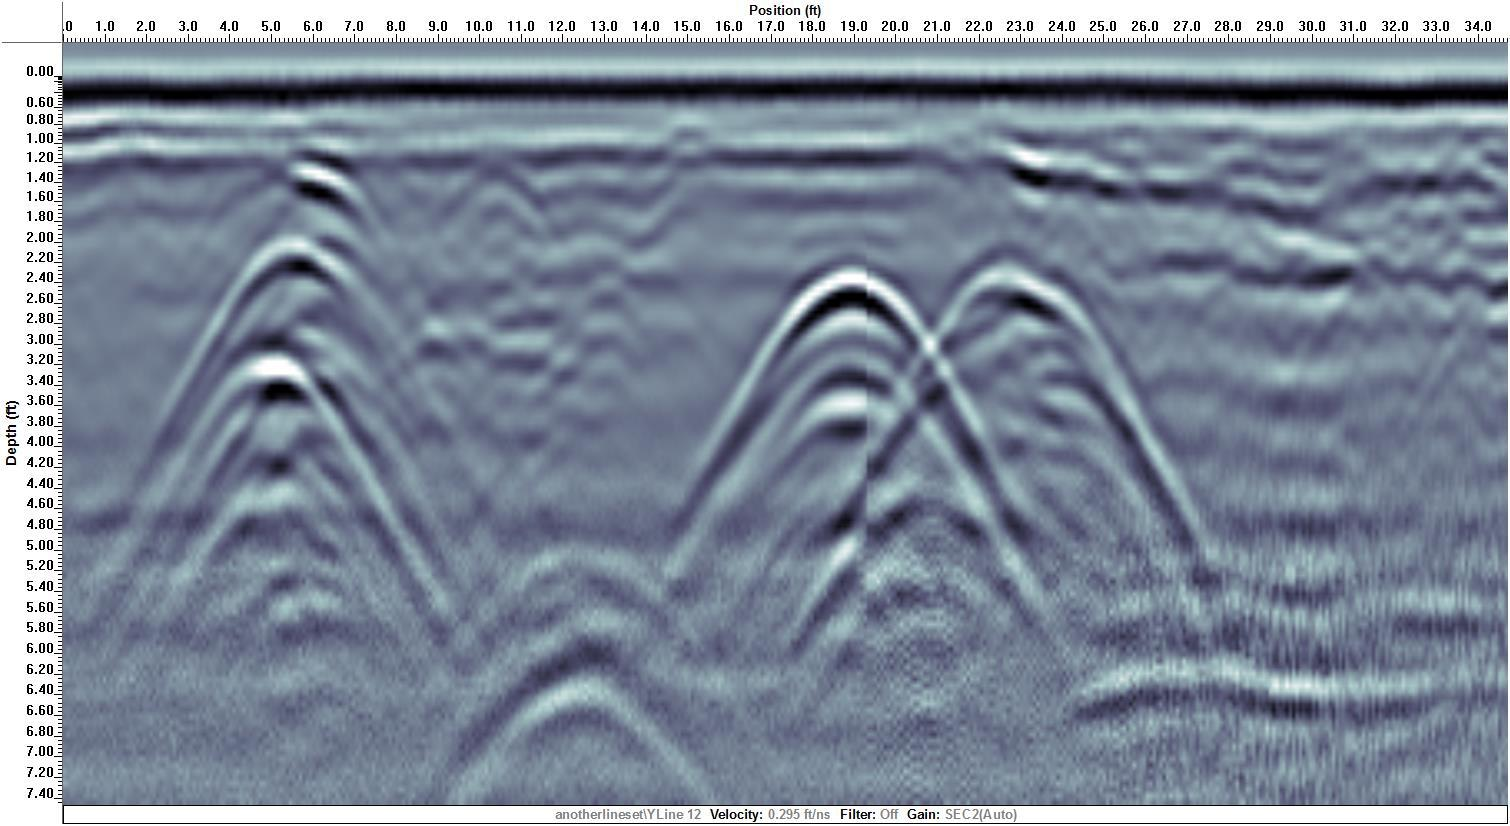hyperbola: (718, 255, 972, 466), (898, 255, 1151, 449), (181, 333, 390, 550), (190, 230, 399, 351)
